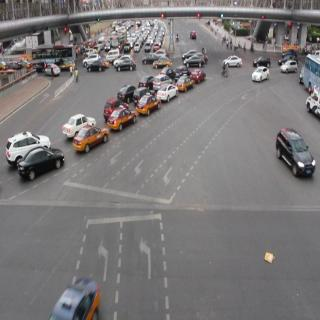BigCar: (32, 44, 77, 68)
Car: (271, 113, 316, 182), (50, 266, 101, 320), (18, 145, 62, 182), (75, 121, 112, 163), (3, 130, 50, 156), (134, 86, 159, 121), (61, 111, 92, 133), (86, 54, 114, 78), (103, 89, 125, 117), (220, 52, 246, 75), (183, 50, 210, 70), (116, 53, 137, 77), (175, 72, 196, 96), (158, 77, 176, 104), (254, 64, 269, 87), (281, 58, 296, 78), (153, 56, 171, 71)
